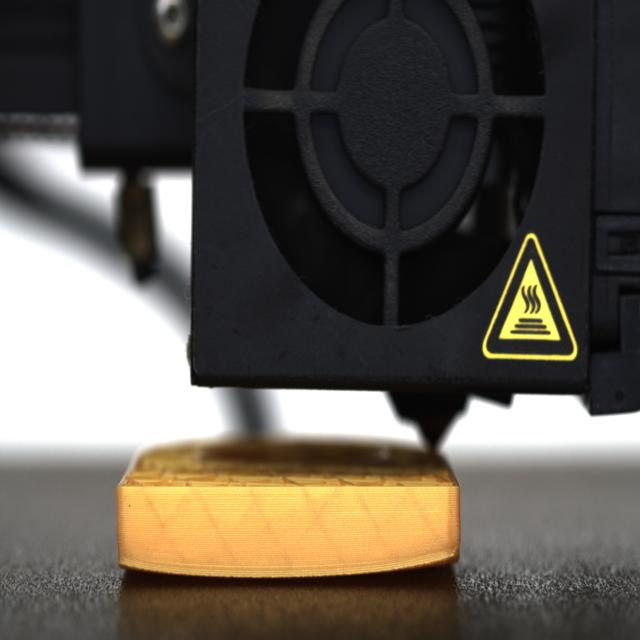Warping: (355, 545, 464, 580), (112, 552, 181, 585)
